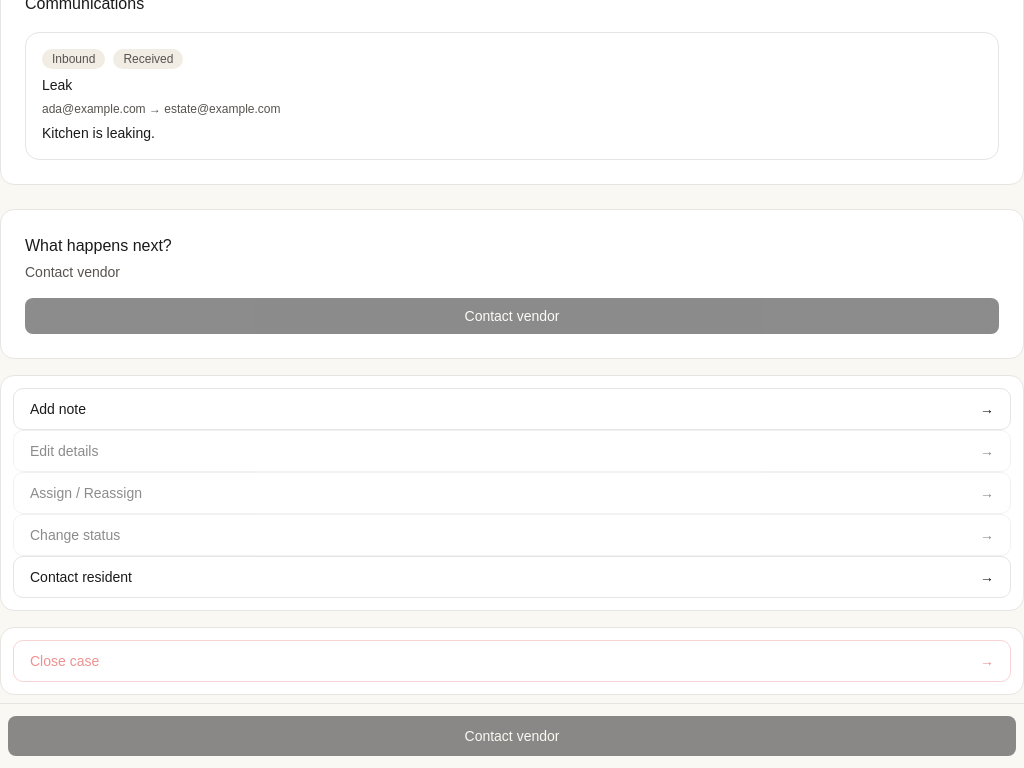
Test: CaseDetail contact wiring › Contact resident opens the composer addressed to the reporter
(page scrolled)
Click the button "Contact resident →".
click(81, 577)  # box [13, 556, 1011, 598]
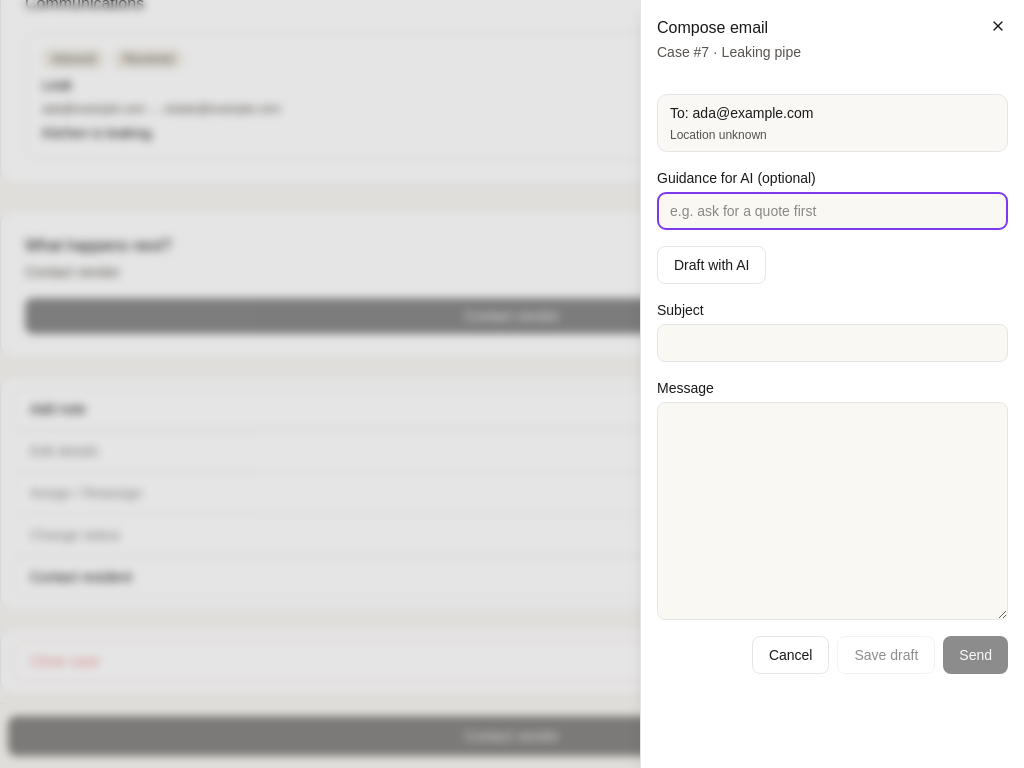
Expected: the dialog is shown, [640, 0, 1023, 767]
Expected: the text "ada@example.com" is shown, [693, 105, 813, 121]
